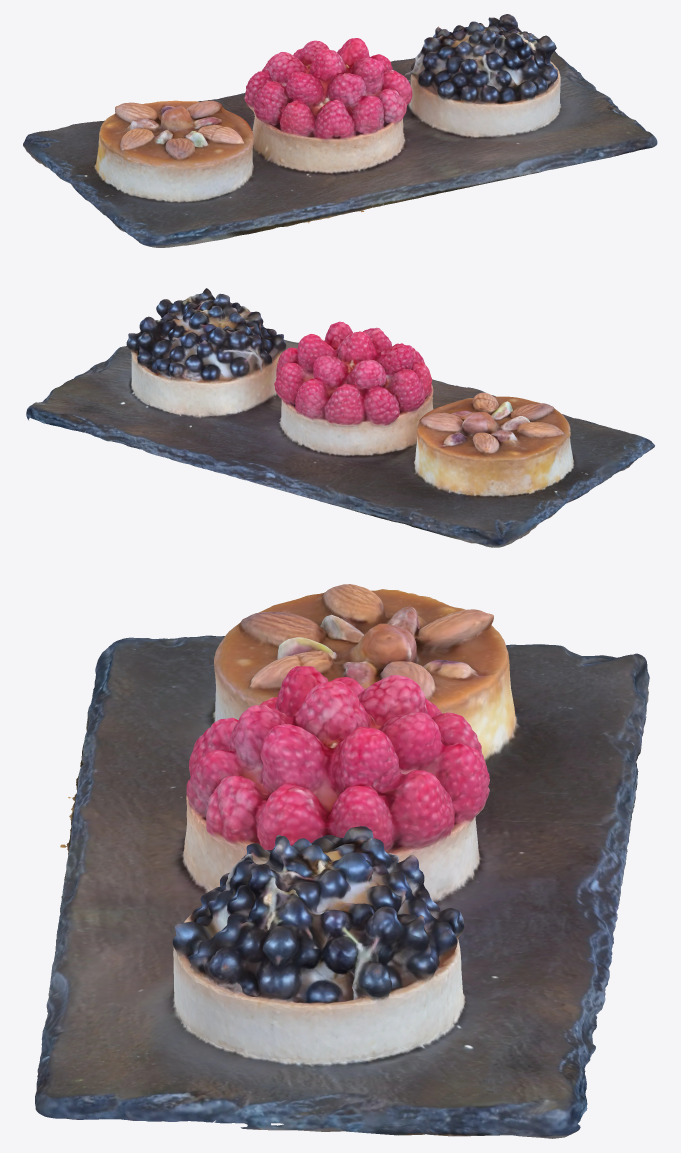
Rendered from se.ta.keik.gerd.toot.farangi.final.glb.
3 renders of one model, top to bottom at view 1: azimuth 30°, elevation 25°; view 2: azimuth 150°, elevation 25°; view 3: azimuth 270°, elevation 25°, orthographic. The views are drawn at different scales.
Parts seen in each view (by area): view 1: object 1; view 2: object 1; view 3: object 1.
Boxes of the visible parts, <box> form: object 1: <box>23,14,657,247</box>; object 1: <box>26,288,654,547</box>; object 1: <box>35,584,649,1138</box>.
Bounding box in the file's own units: 0.3213 × 0.0647 × 0.1845.
Materials: 2 (1 with a texture image).
